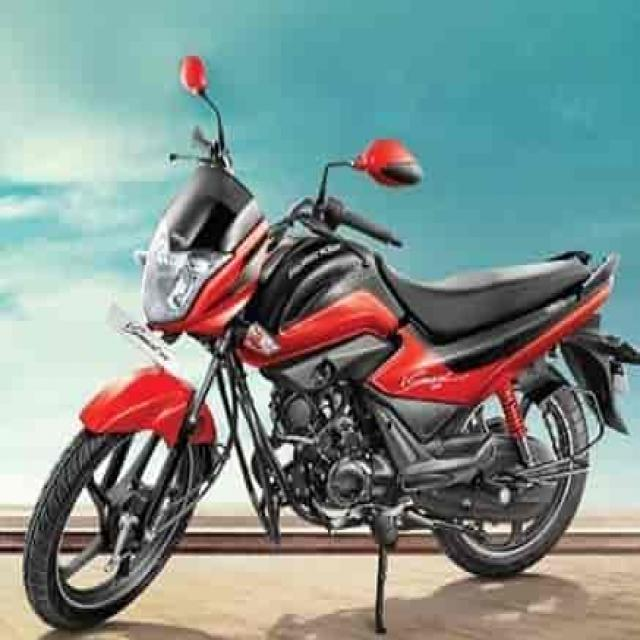Bike: (22, 63, 622, 607)
